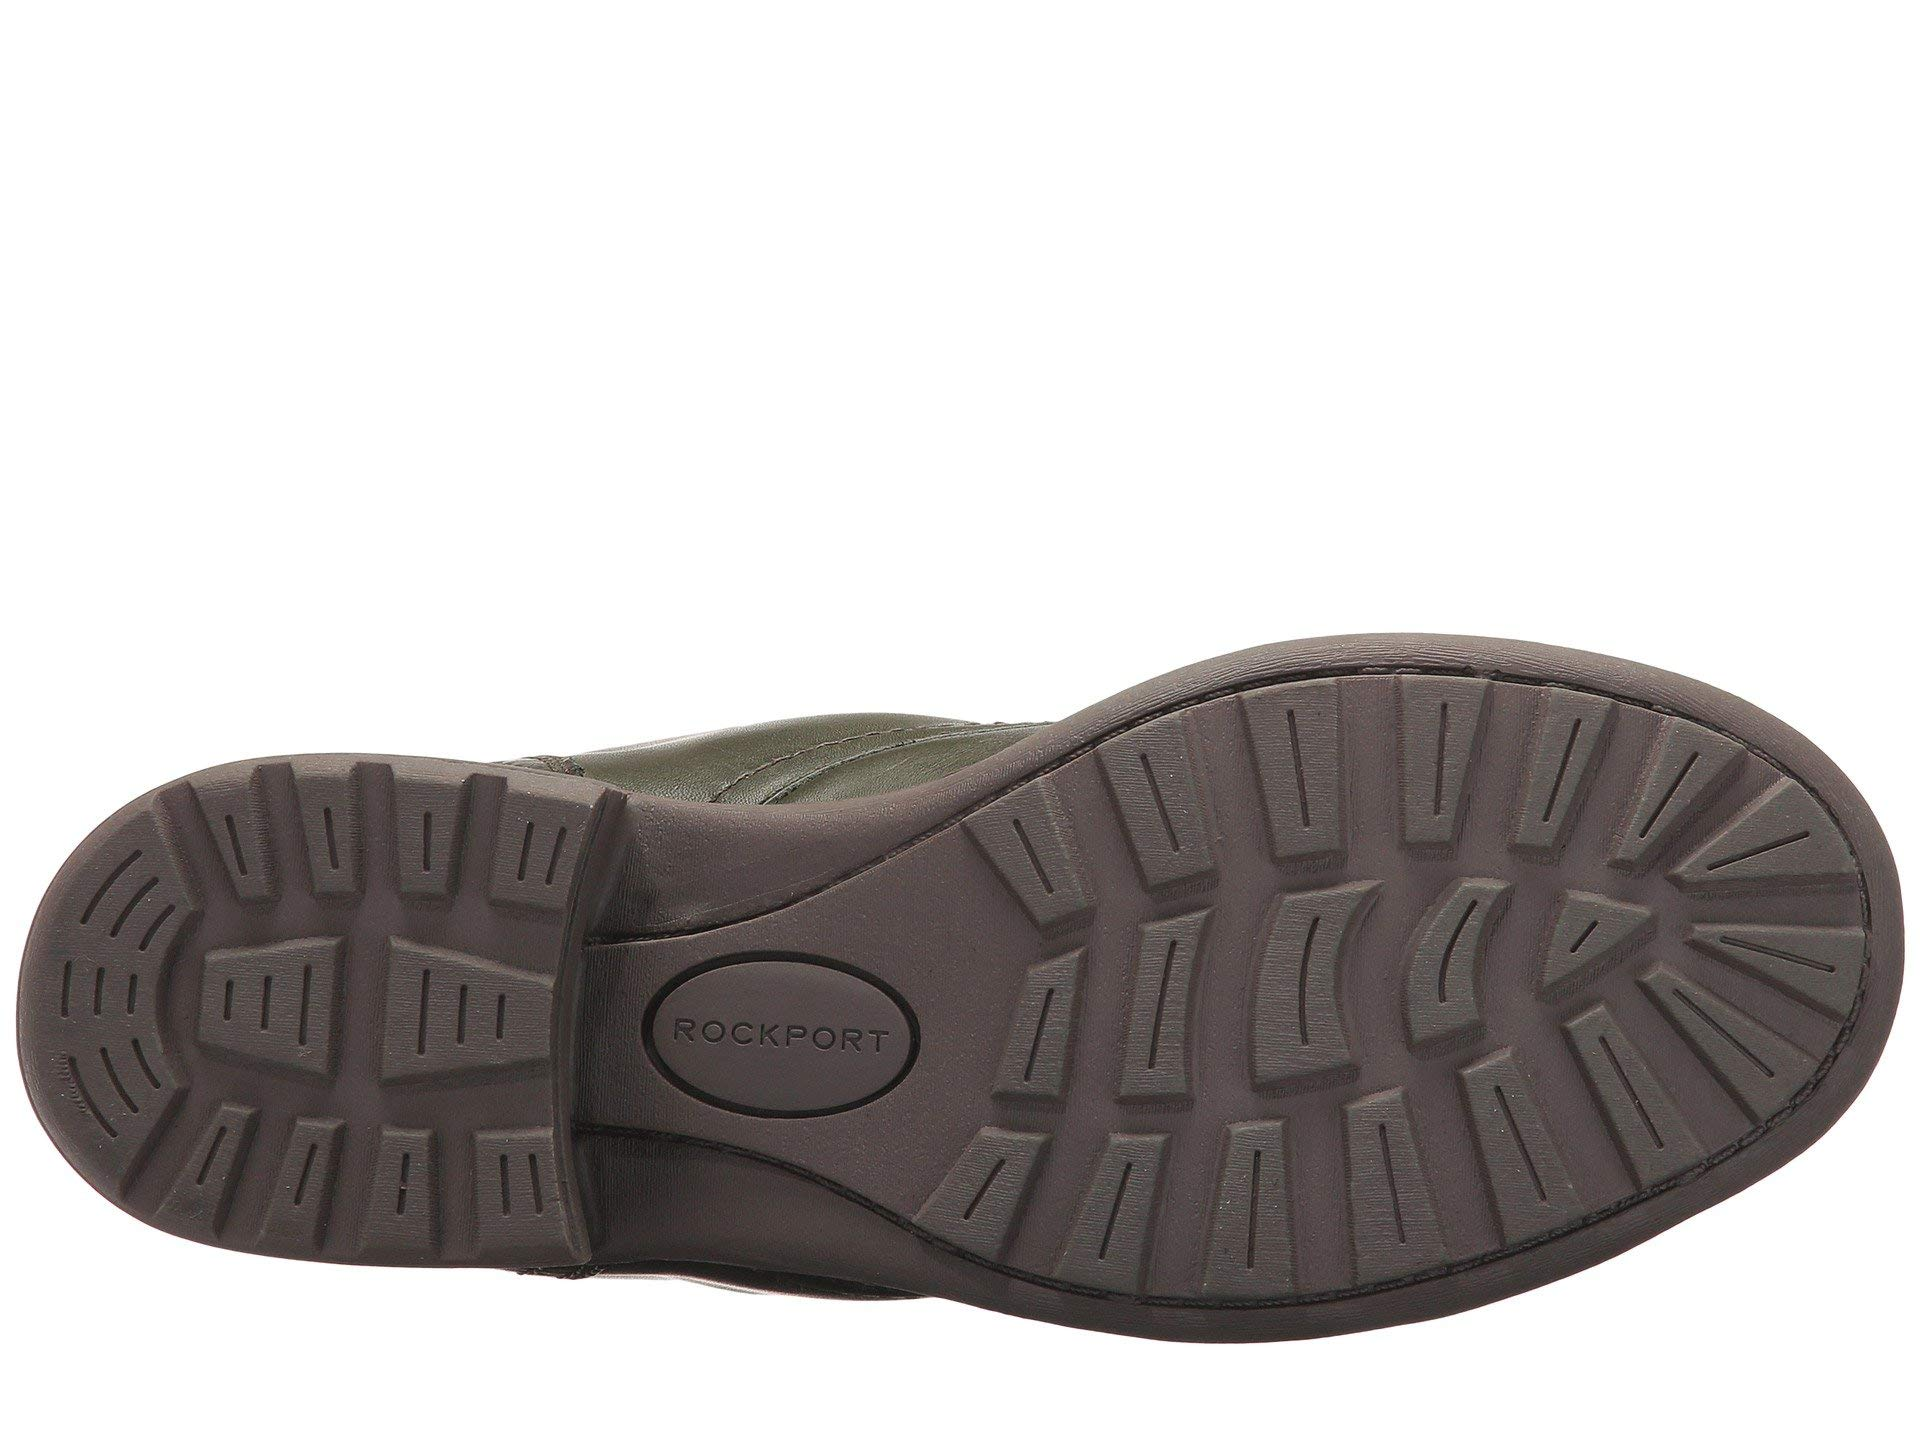circle: (623, 906, 960, 1169)
line: (101, 790, 562, 1262), (1099, 703, 1507, 1136), (1509, 666, 1879, 1071), (1058, 1077, 1346, 1331), (949, 753, 1095, 948)
quad: (101, 790, 562, 1262), (1099, 703, 1507, 1136), (1509, 666, 1879, 1071), (1058, 1077, 1346, 1331), (949, 753, 1095, 948)
text: (623, 906, 960, 1169)
triangle: (1509, 666, 1879, 1071)
